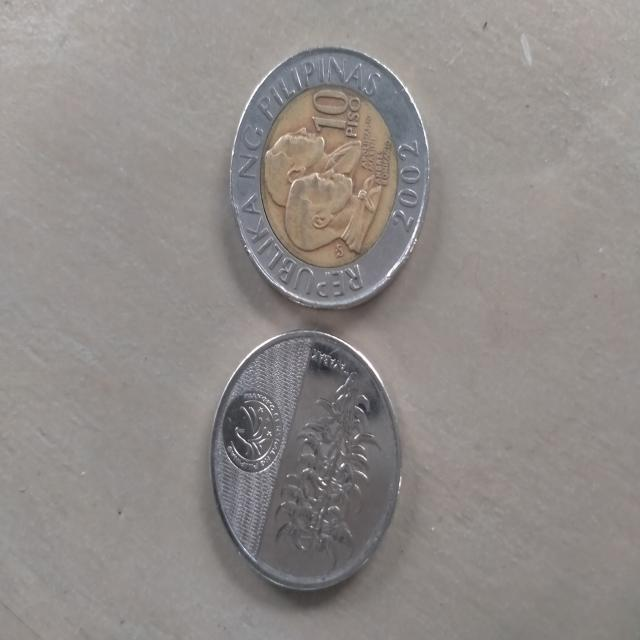10_Old_Front: (305, 78, 365, 151)
5_New_Back: (275, 353, 392, 581)
